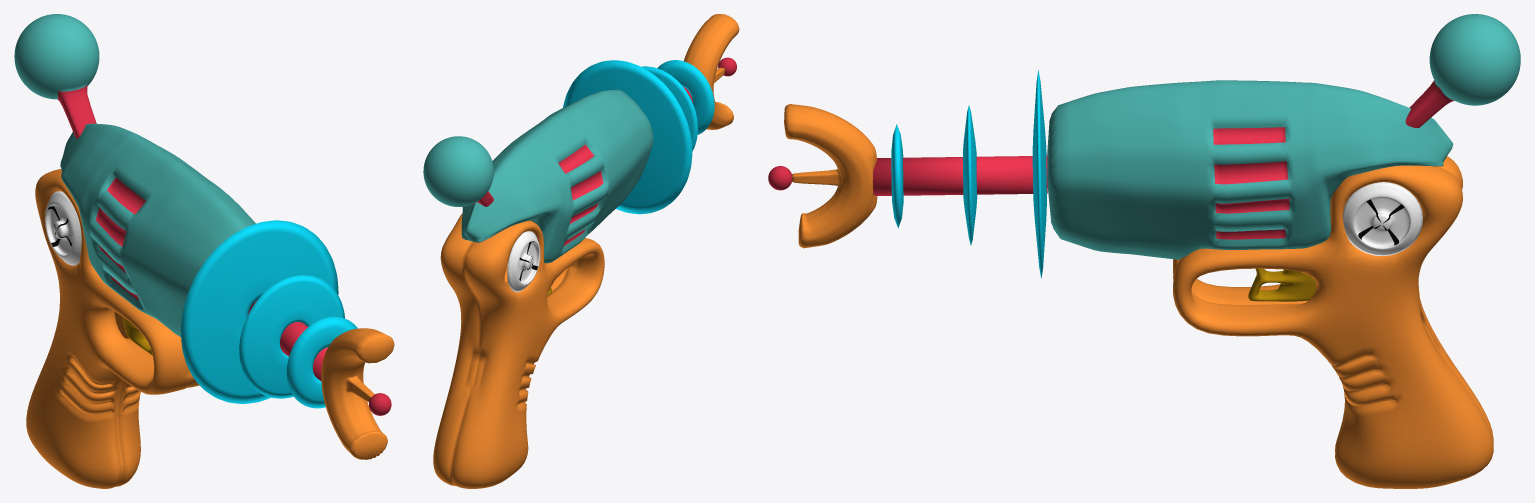
Rendered from blaster.fbx.
3 renders of one model, left to right at view 1: azimuth 30°, elevation 25°; view 2: azimuth 150°, elevation 25°; view 3: azimuth 270°, elevation 25°, orthographic. The views are drawn at different scales.
Visible parts, largest first — view 1: Plane.003, Circle.003_Circle.000, Plane.002, Sphere.003, Torus.001, Circle.001, Cylinder.001, Sphere.002, Cube_Cube.000; view 2: Plane.003, Plane.002, Circle.003_Circle.000, Sphere.003, Torus.001, Circle.001; view 3: Plane.002, Plane.003, Torus.001, Sphere.003, Cylinder.001, Circle.001, Circle.003_Circle.000, Cube_Cube.000.
Part boxes in pixels (box(x1,y1,x2,y2)): Plane.003: box(26, 169, 199, 488); Circle.003_Circle.000: box(181, 220, 357, 408); Plane.002: box(60, 123, 255, 336); Sphere.003: box(14, 14, 99, 138); Torus.001: box(321, 328, 394, 459); Circle.001: box(45, 191, 81, 265); Cylinder.001: box(247, 299, 327, 380); Sphere.002: box(369, 393, 391, 415); Cube_Cube.000: box(122, 316, 152, 355); Plane.003: box(433, 213, 604, 488); Plane.002: box(461, 89, 653, 263); Circle.003_Circle.000: box(563, 60, 714, 214); Sphere.003: box(423, 136, 493, 206); Torus.001: box(684, 14, 739, 129); Circle.001: box(507, 231, 540, 292); Plane.002: box(1047, 80, 1453, 259); Plane.003: box(1173, 156, 1493, 488); Torus.001: box(784, 104, 877, 248); Sphere.003: box(1405, 14, 1520, 128); Cylinder.001: box(872, 155, 1047, 195); Circle.001: box(1343, 182, 1422, 255); Circle.003_Circle.000: box(891, 70, 1046, 278); Cube_Cube.000: box(1248, 268, 1316, 301).
Size of the model in its own units: 21.18 by 55.39 by 81.6.
